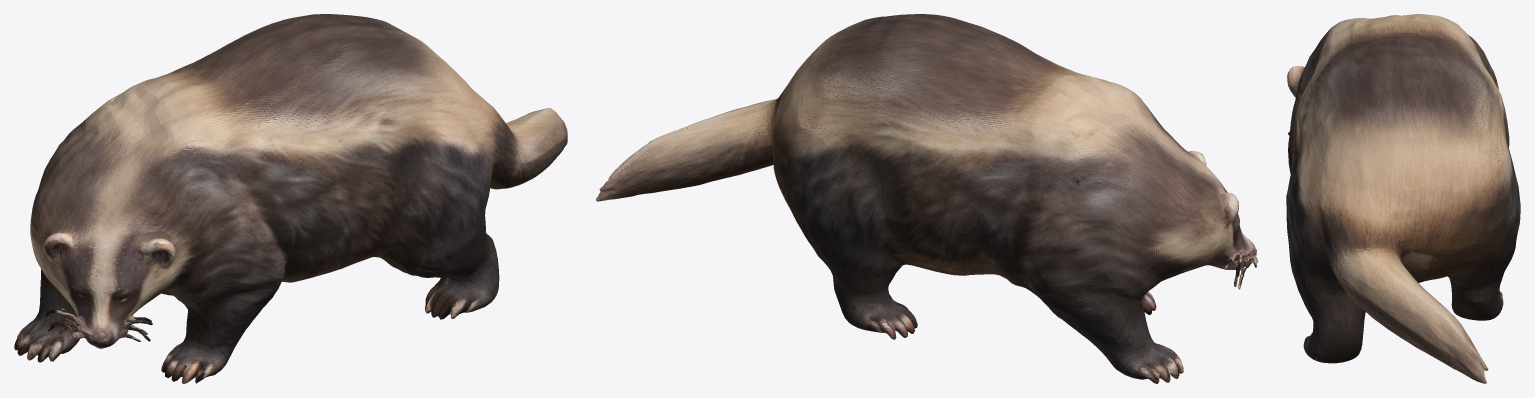
Rendered from foe_badger.glb.
3 views of the same model, side by side, from view 1: azimuth 30°, elevation 25°; view 2: azimuth 150°, elevation 25°; view 3: azimuth 270°, elevation 25° (orthographic). The views are drawn at different scales.
Visible parts, largest first — view 1: temp_mesh.ply; view 2: temp_mesh.ply; view 3: temp_mesh.ply.
Part boxes in pixels (x1=…): temp_mesh.ply: x1=14, y1=14, x2=567, y2=383; temp_mesh.ply: x1=596, y1=14, x2=1257, y2=383; temp_mesh.ply: x1=1286, y1=14, x2=1520, y2=383.
Size of the model in its own units: 1.97 by 0.8928 by 0.7448.
1 material, 1 textured.
